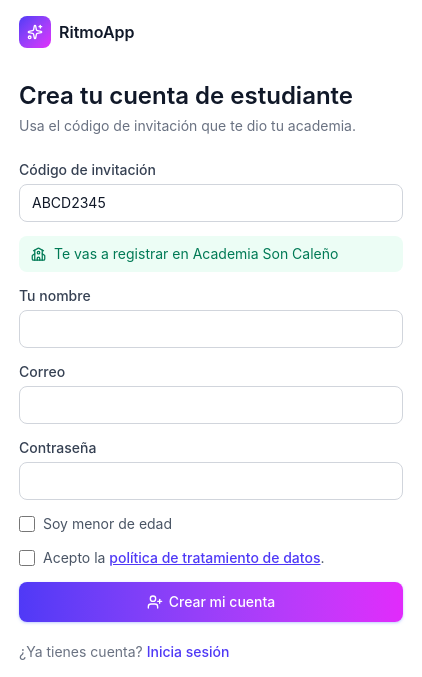
Test: HU-22: registro de estudiantes con código de invitación (pantallas) › CP-230 · HU-22-CA-01: con el código del enlace muestra la academia, crea la cuenta y pide revisar el correo
Expected: the text "Te vas a registrar en Academia Son Caleño" is shown, [19, 236, 403, 272]
Step 1. Type "Sara Ríos" into the field labelled "Tu nombre" → [211, 329], box [19, 310, 403, 348]
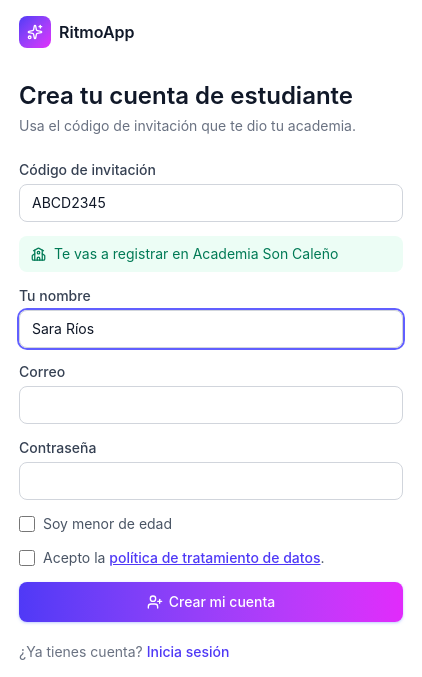
Step 2. Type "sara@estudiante.test" into the field labelled "Correo" → [211, 405], box [19, 386, 403, 424]
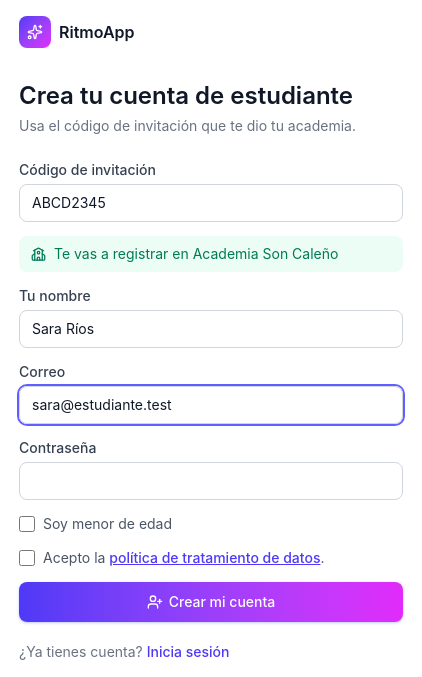
Step 3. Type "Prueba123!" into the password field labelled "Contraseña" → [211, 481], box [19, 462, 403, 500]
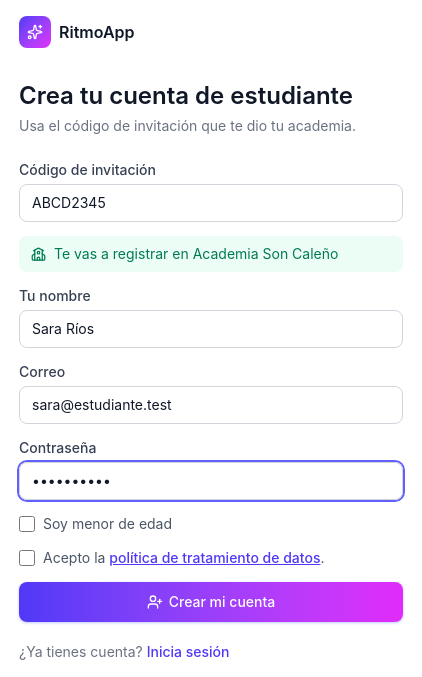
Step 4. Click the checkbox labelled "Acepto la política de tratamiento de datos ." → [27, 558], box [19, 550, 35, 566]
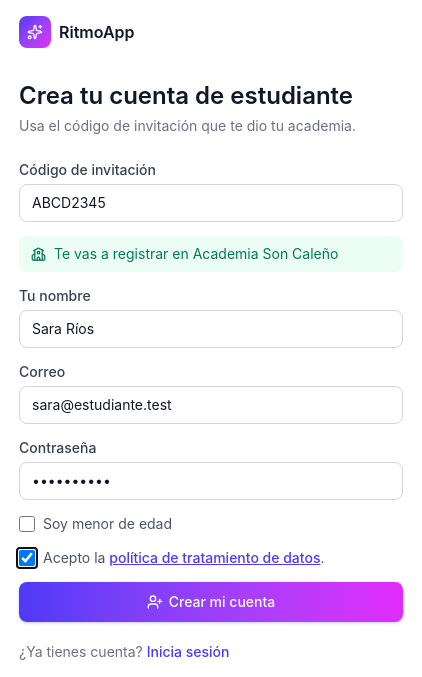
Step 5. Click the button "Crear mi cuenta" → [211, 602], box [19, 582, 403, 622]
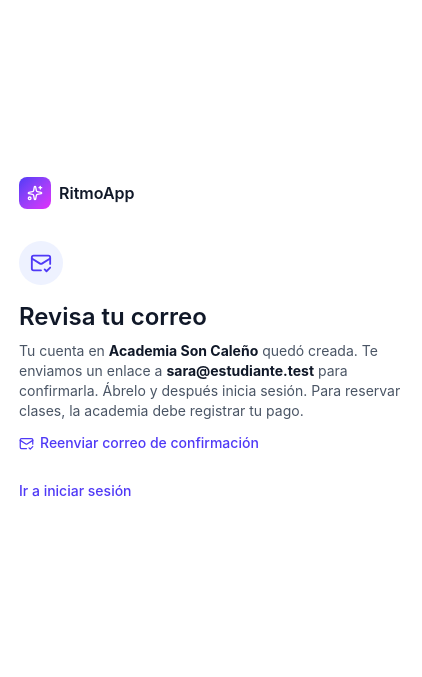
Expected: the heading "Revisa tu correo" is shown, [19, 302, 207, 330]
